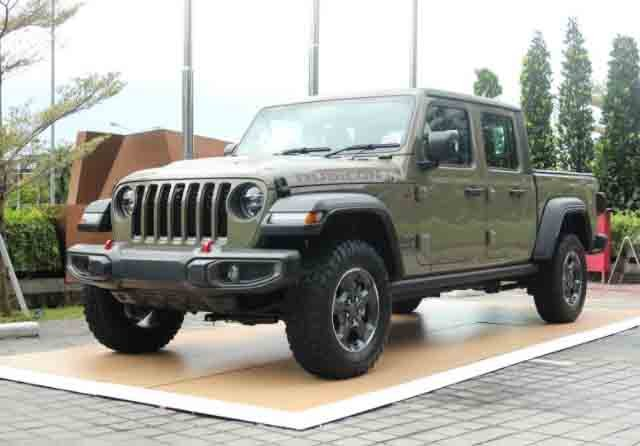mobil: (57, 76, 605, 359)
